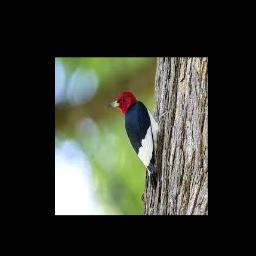Woodpecker: (107, 91, 167, 190)
